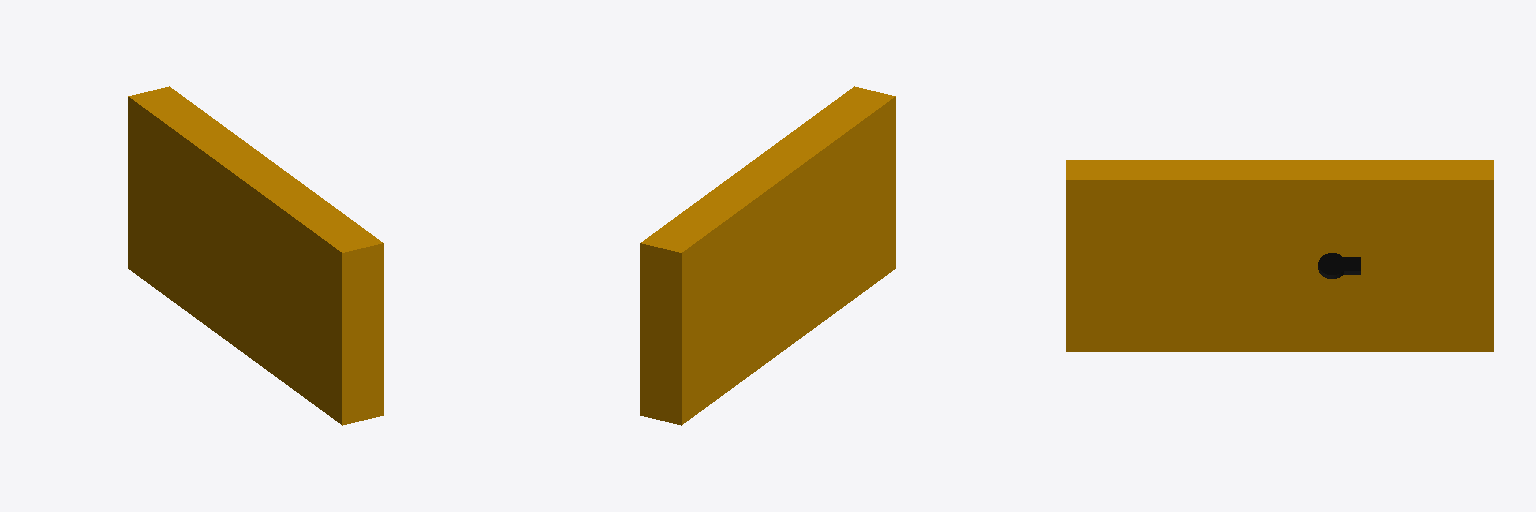
File: Gate.obj
3 views of the same model, side by side, from view 1: azimuth 30°, elevation 25°; view 2: azimuth 150°, elevation 25°; view 3: azimuth 270°, elevation 25° (orthographic).
Visible parts, largest first — view 1: Body1; view 2: Body1; view 3: Body1.
Part boxes in pixels (left/top/right/bottom): Body1: left=128, top=86, right=383, bottom=425; Body1: left=640, top=86, right=895, bottom=425; Body1: left=1066, top=160, right=1493, bottom=351.
Bounding box in the file's own units: 25 × 100 × 225.